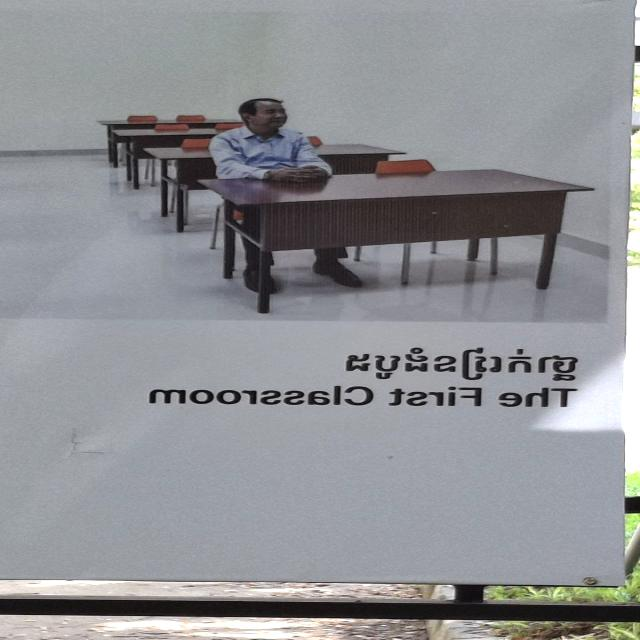Yolov11kh: (309, 338, 609, 386)
